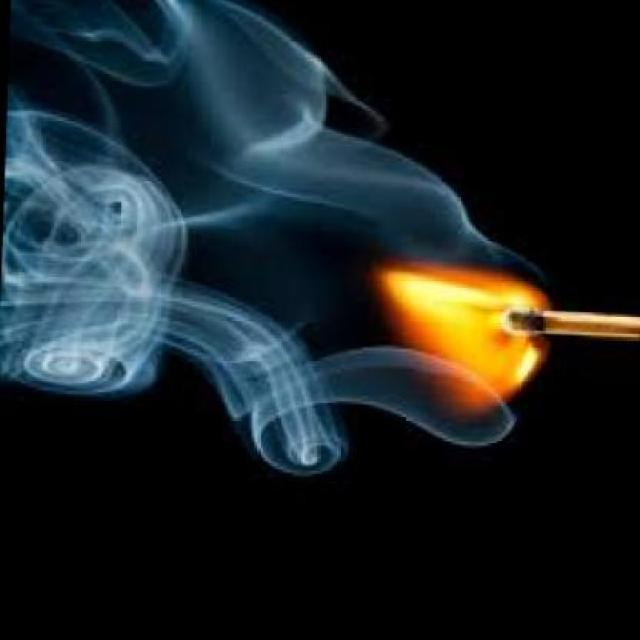Fire: (382, 248, 550, 386)
Smoke: (4, 3, 353, 482)
